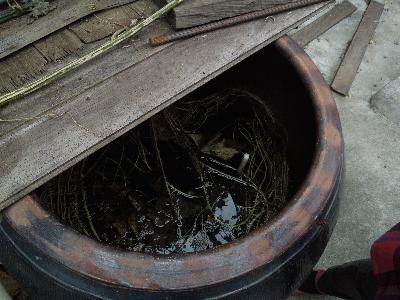bowl: (1, 36, 345, 297)
